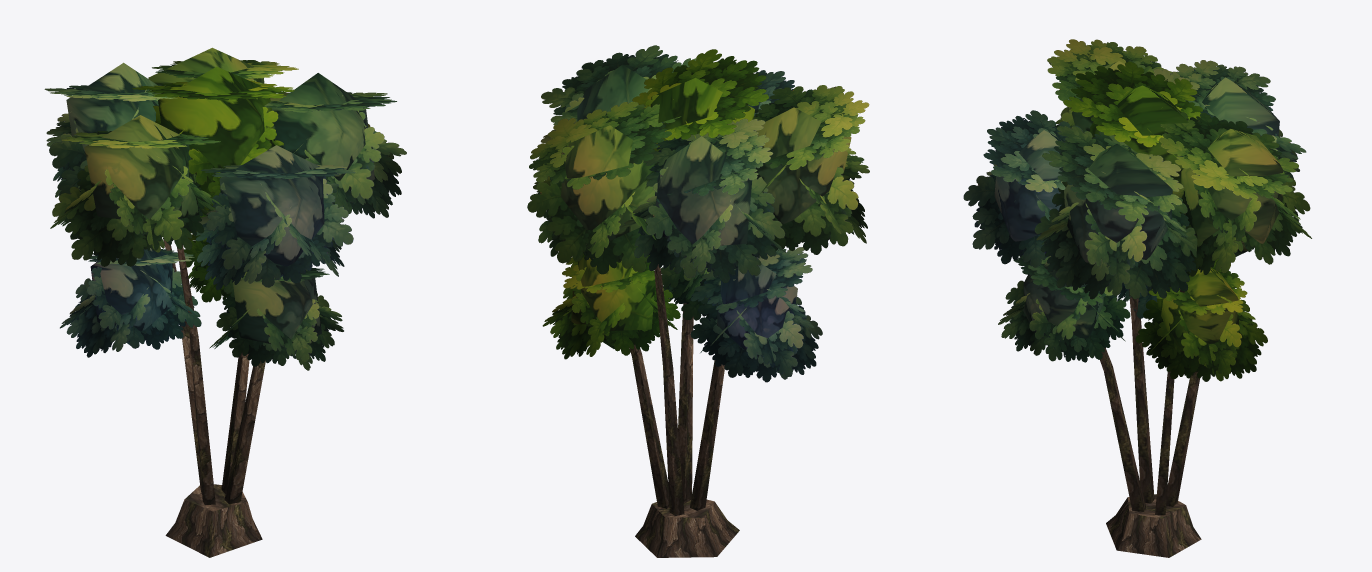
File: tree_hazel_lod1.glb
3 renders of one model, left to right at view 1: azimuth 30°, elevation 25°; view 2: azimuth 150°, elevation 25°; view 3: azimuth 270°, elevation 25°, orthographic. The views are drawn at different scales.
Parts seen in each view (by area): view 1: tree_hazel_lod1; view 2: tree_hazel_lod1; view 3: tree_hazel_lod1.
Part boxes in pixels (x1=…): tree_hazel_lod1: x1=44, y1=47, x2=406, y2=557; tree_hazel_lod1: x1=527, y1=45, x2=869, y2=557; tree_hazel_lod1: x1=963, y1=39, x2=1311, y2=557.
Size of the model in its own units: 4.34 by 4.86 by 4.1.
Materials: 2 (2 with a texture image).
